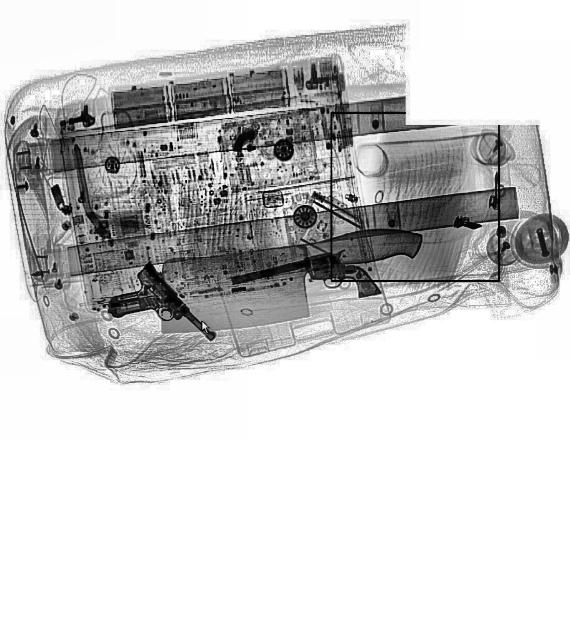Gun: (100, 260, 215, 378), (230, 241, 382, 323)
Knife: (152, 223, 428, 337)
